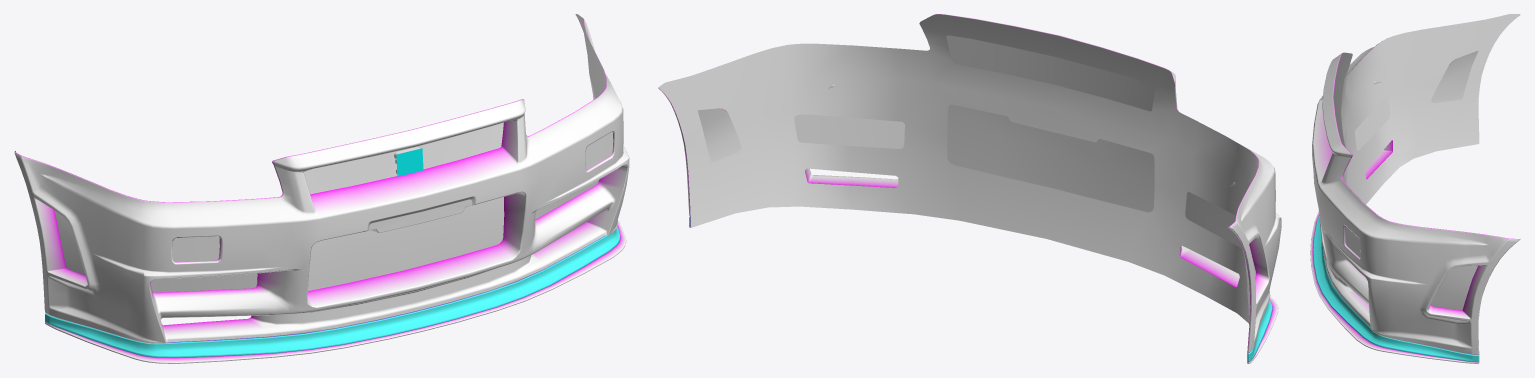
Rendered from Car_Nissan_SkylineGTRVspecR34_1999_BumperF_SetA.fbx.
3 renders of one model, left to right at view 1: azimuth 30°, elevation 25°; view 2: azimuth 150°, elevation 25°; view 3: azimuth 270°, elevation 25°, orthographic. The views are drawn at different scales.
Visible parts, largest first — view 1: BumperF 6; view 2: BumperF 6; view 3: BumperF 6.
Part boxes in pixels (box(x1,y1,x2,y2)): BumperF 6: box(14, 14, 629, 363); BumperF 6: box(658, 14, 1281, 363); BumperF 6: box(1310, 14, 1520, 363).
Size of the model in its own units: 1.78 by 0.574 by 0.6985.
